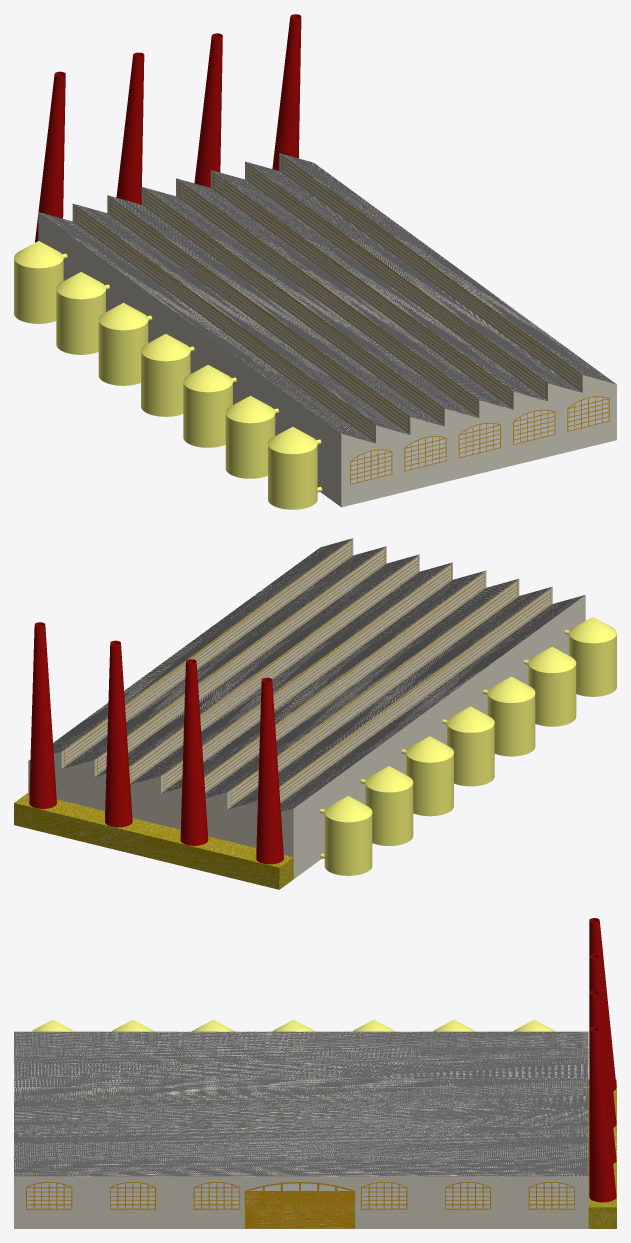
The model's file is industry2.fbx.
The picture shows the model from 3 angles, top to bottom: view 1: azimuth 30°, elevation 25°; view 2: azimuth 150°, elevation 25°; view 3: azimuth 270°, elevation 25°; orthographic projection. The views are drawn at different scales.
Parts seen in each view (by area): view 1: group_8.179, group_8.175, group_8.176, group_8.199, group_8.187, group_8.191, group_8.195, group_8.203, group_8.003, group_8.207, group_8.183, group_8.180 (+72 smaller); view 2: group_8.175, group_8.177, group_8.171, group_8.207, group_8.176, group_8.199, group_8.203, group_8.003, group_8.191, group_8.187, group_8.183, group_8.195 (+79 smaller); view 3: group_8.003, group_8.181, group_8.187, group_8.183, group_8.195, group_8.199, group_8.191, group_8.207, group_8.203, group_8.001, group_8.182, group_8.901 (+22 smaller).
Boxes of the visible parts, bbox=[...] form: group_8.179: bbox=[341, 375, 616, 507]; group_8.175: bbox=[38, 212, 341, 506]; group_8.176: bbox=[41, 215, 341, 504]; group_8.199: bbox=[108, 195, 443, 426]; group_8.187: bbox=[211, 170, 546, 400]; group_8.191: bbox=[176, 178, 512, 409]; group_8.195: bbox=[142, 187, 478, 417]; group_8.203: bbox=[74, 204, 409, 434]; group_8.003: bbox=[280, 153, 615, 383]; group_8.207: bbox=[39, 212, 375, 443]; group_8.183: bbox=[245, 161, 581, 392]; group_8.180: bbox=[341, 376, 616, 506]; group_8.175: bbox=[293, 595, 585, 878]; group_8.177: bbox=[28, 752, 293, 856]; group_8.171: bbox=[14, 803, 279, 889]; group_8.207: bbox=[280, 595, 584, 811]; group_8.176: bbox=[294, 599, 585, 876]; group_8.199: bbox=[205, 578, 518, 797]; group_8.203: bbox=[228, 587, 551, 809]; group_8.003: bbox=[29, 538, 352, 760]; group_8.191: bbox=[130, 562, 452, 784]; group_8.187: bbox=[95, 554, 419, 776]; group_8.183: bbox=[62, 546, 385, 768]; group_8.195: bbox=[162, 571, 484, 792]; group_8.003: bbox=[14, 1143, 588, 1176]; group_8.181: bbox=[14, 1176, 588, 1228]; group_8.187: bbox=[14, 1111, 588, 1127]; group_8.183: bbox=[14, 1127, 588, 1143]; group_8.195: bbox=[14, 1079, 588, 1095]; group_8.199: bbox=[14, 1063, 588, 1079]; group_8.191: bbox=[14, 1095, 588, 1111]; group_8.207: bbox=[14, 1031, 588, 1047]; group_8.203: bbox=[14, 1047, 588, 1063]; group_8.001: bbox=[14, 1143, 587, 1176]; group_8.182: bbox=[14, 1176, 588, 1228]; group_8.901: bbox=[244, 1182, 355, 1228].
Bounding box in the file's own units: 3776 × 2255 × 6394.
